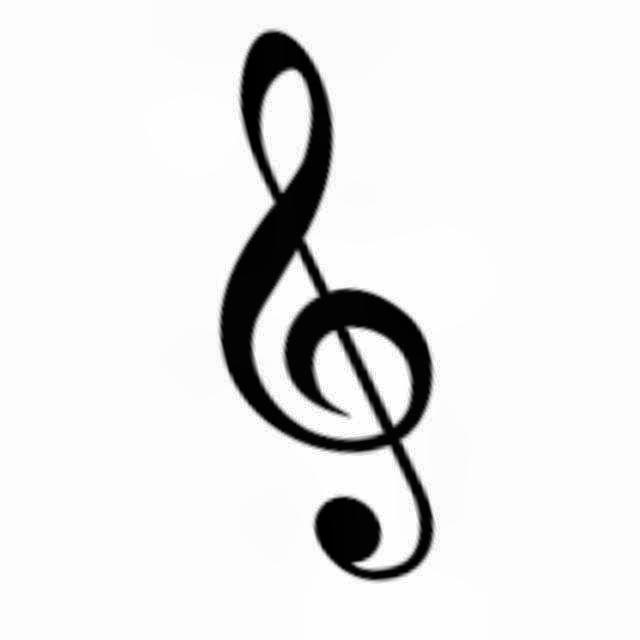Treble-clef: (217, 15, 467, 593)
